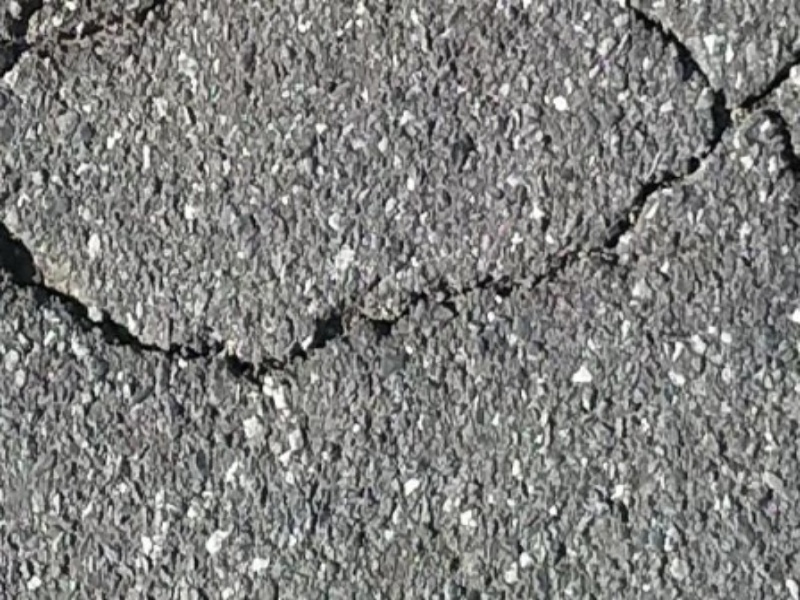crack: (13, 60, 799, 404), (629, 13, 799, 179), (4, 11, 188, 70)
